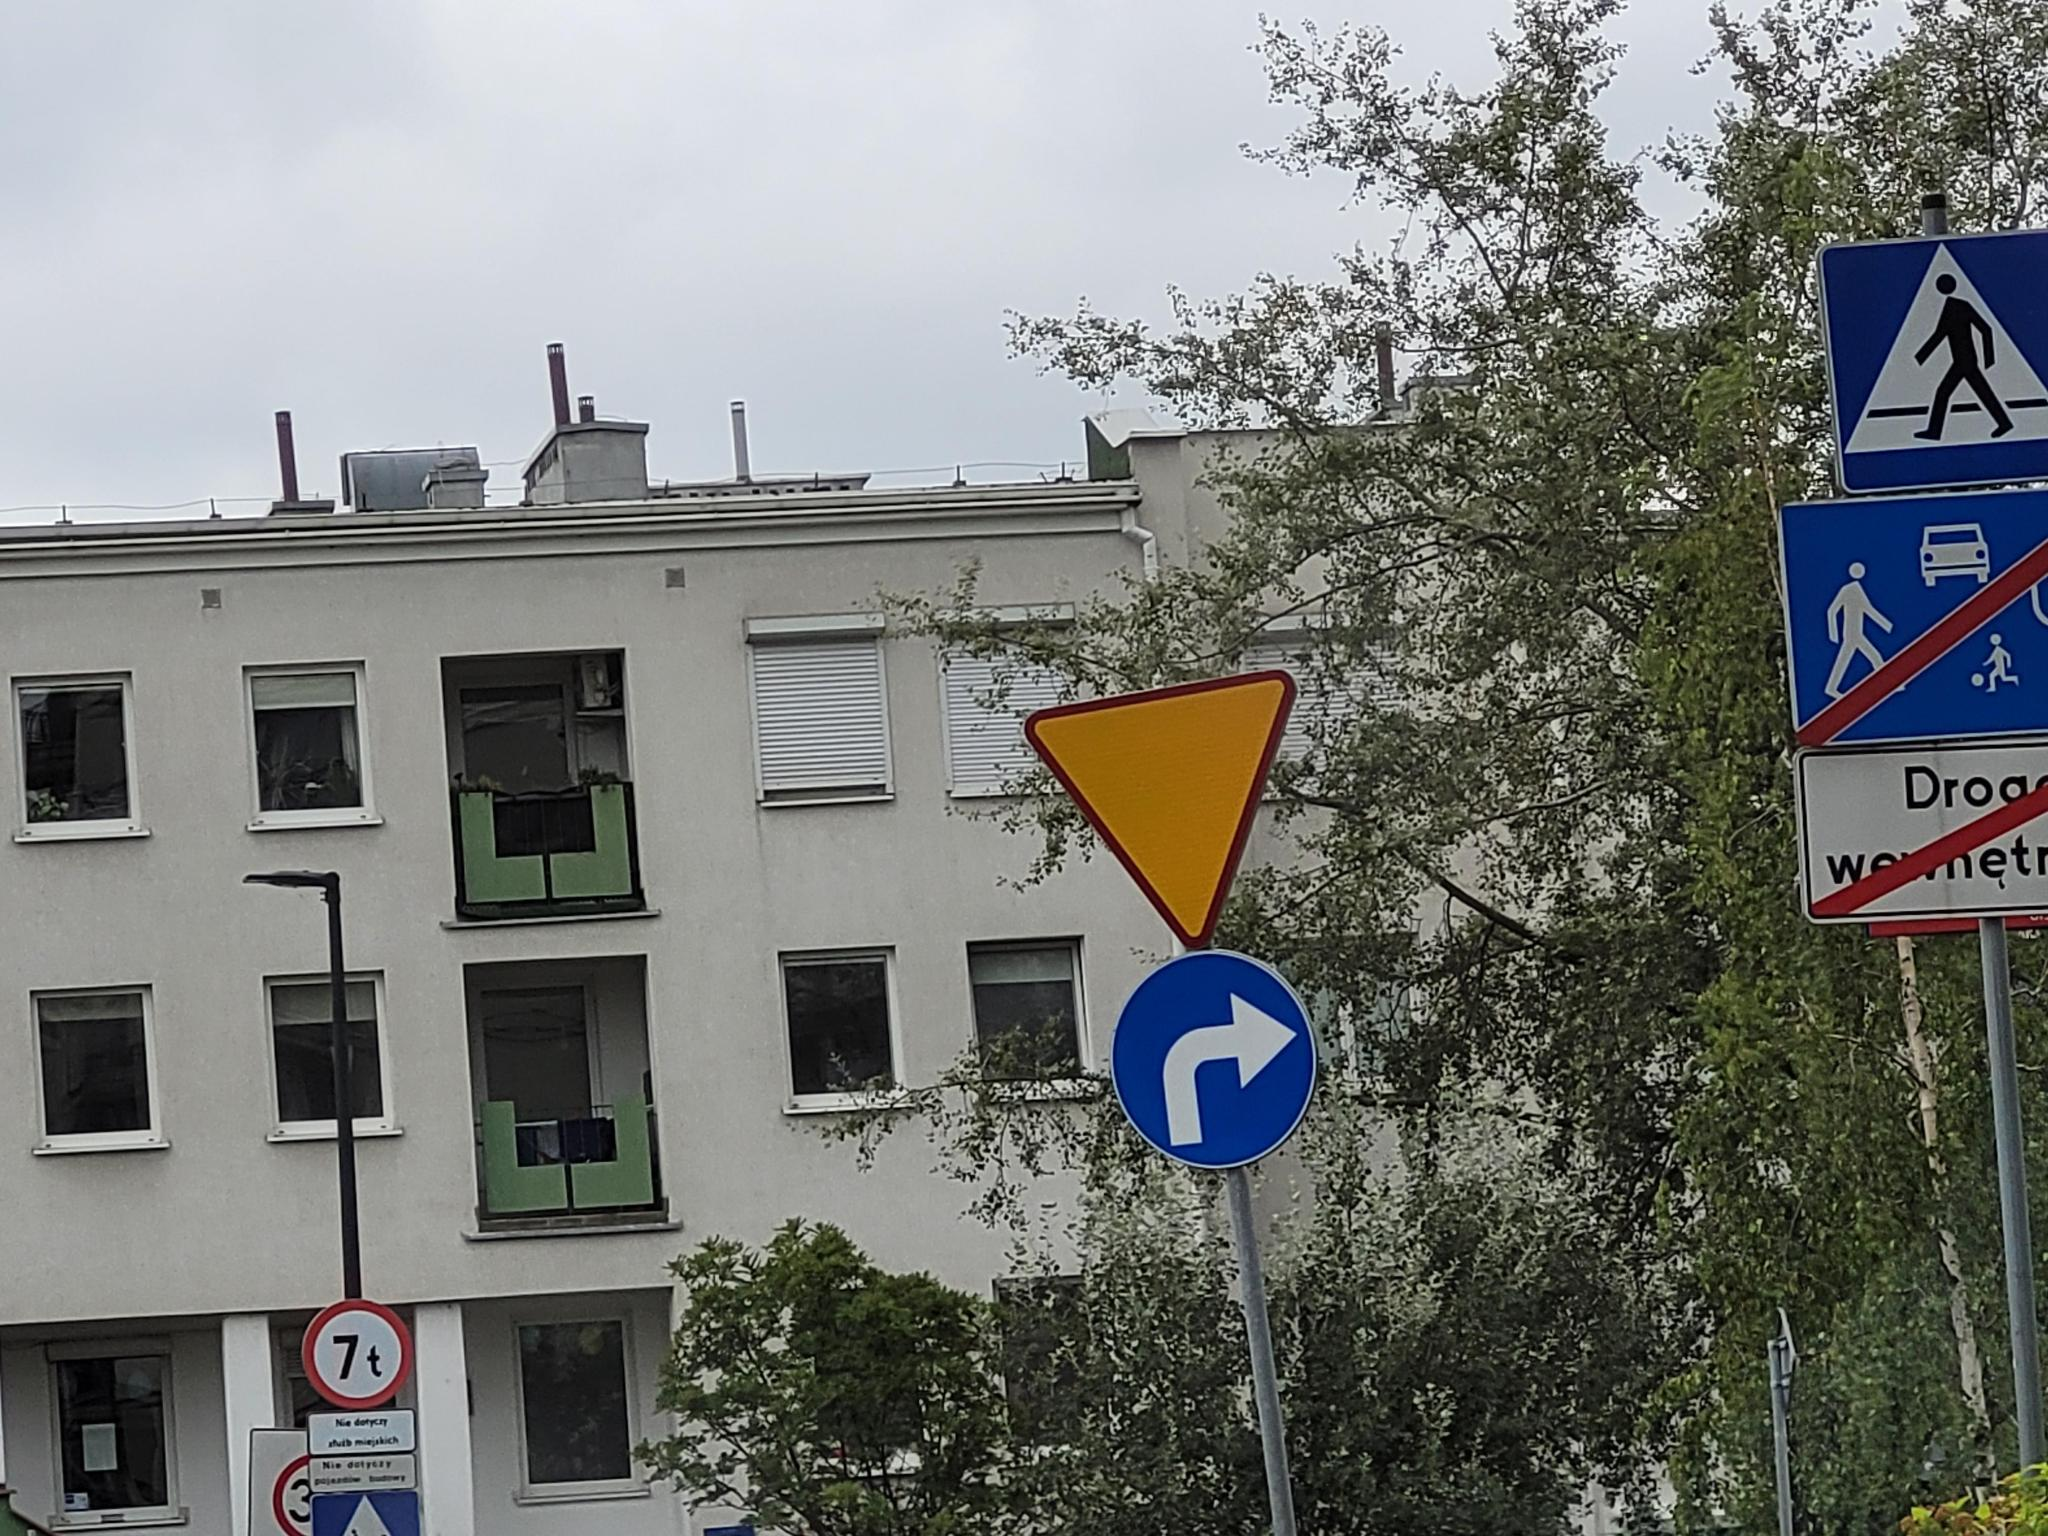information: (1784, 507, 2048, 742), (1822, 245, 2048, 482), (1798, 752, 2048, 916), (311, 1489, 416, 1536)
mandatory: (1109, 950, 1321, 1171)
prohibitory: (302, 1297, 414, 1410), (271, 1454, 311, 1536)
warning: (1026, 666, 1300, 947)
